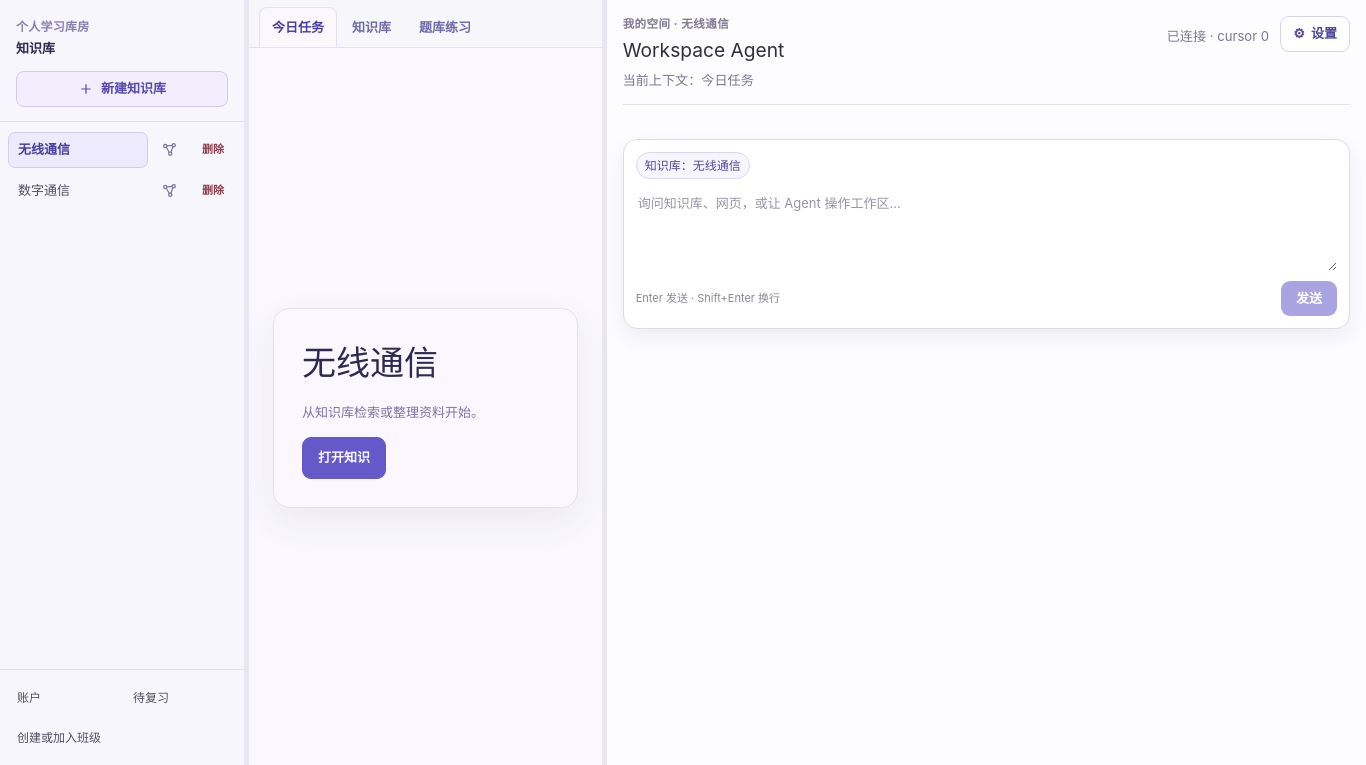
Test: Workspace Agent aggregate acceptance › retries the real failed Runtime turn while knowledge and question-bank controls stay usable
Type "请解释信道容量" into the text box named "向 Agent 发送消息".
click(986, 230); type("请解释信道容量")  # box [636,189,1337,271]
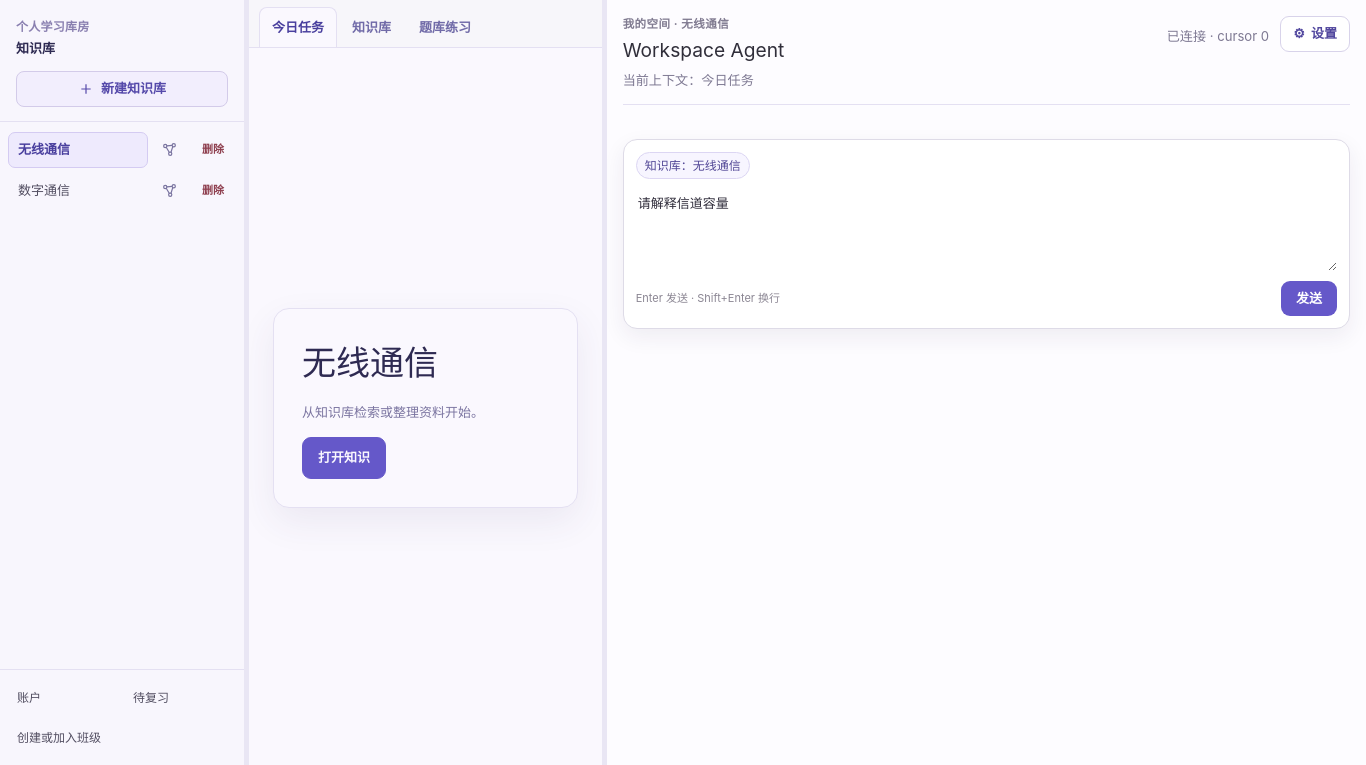
Expected: the button "发送" is enabled
Click the button "发送".
click(1309, 298)  # box [1281,281,1337,316]
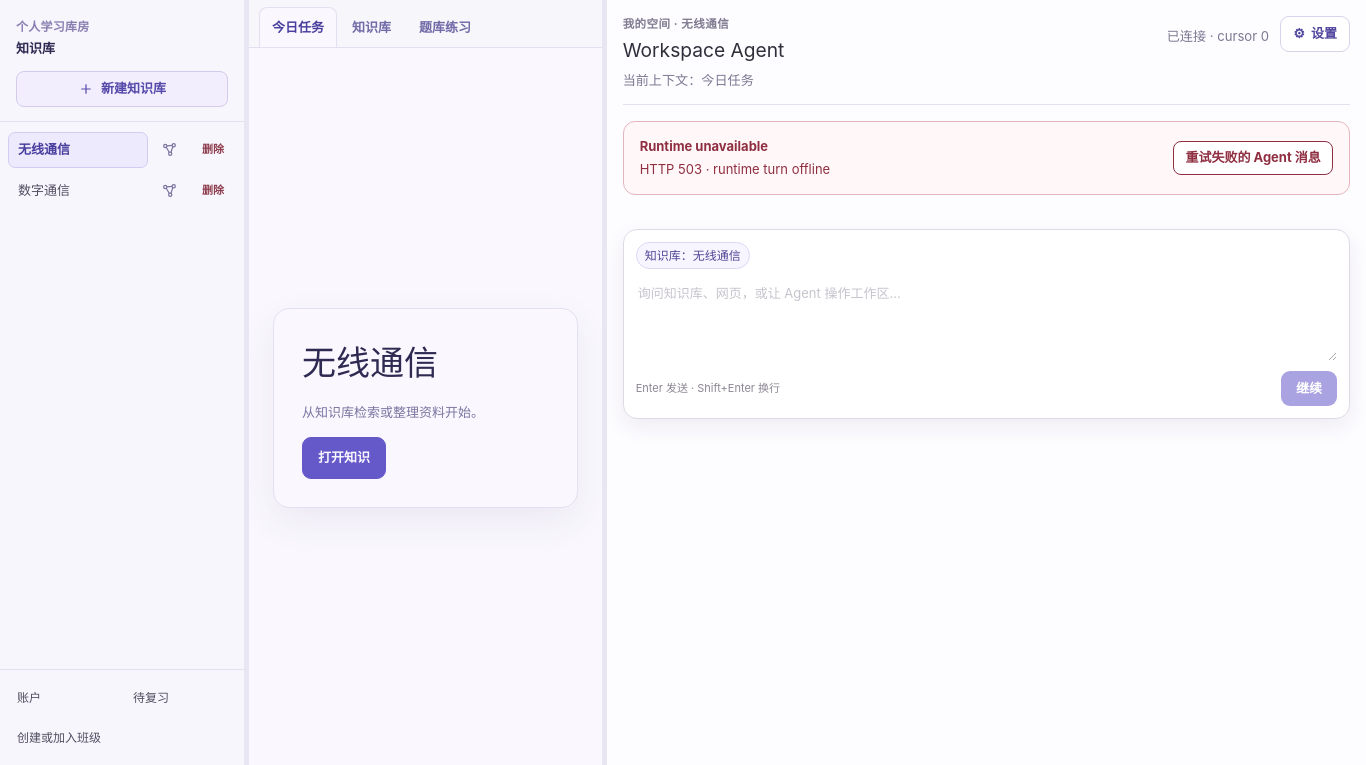
Expected: the text "HTTP 503 · runtime turn offline" is shown, [640,160,830,180]
Click the tab "知识库".
click(372, 28)  # box [340,8,403,47]
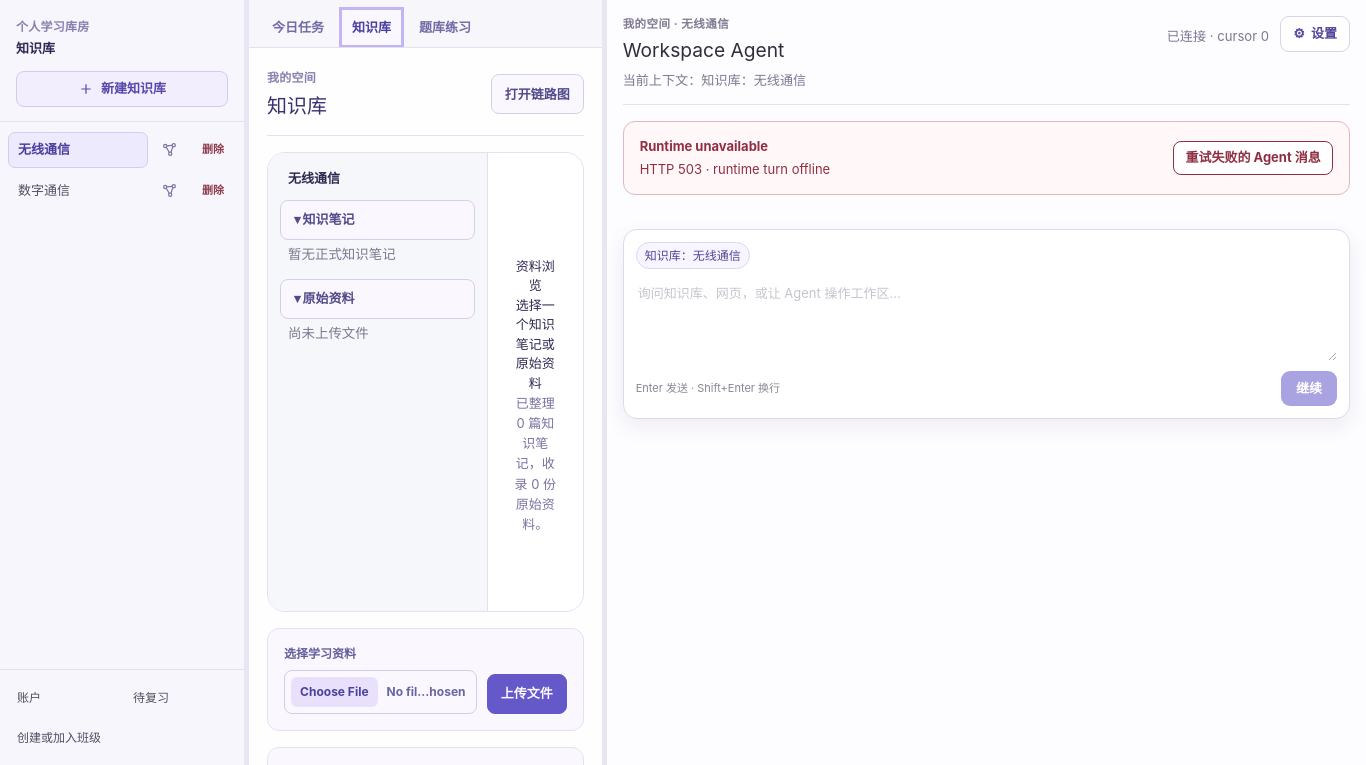
Expected: the element named "知识库面板" shows "无线通信", [288,170,340,186]
Click the tab "题库练习".
click(445, 28)  # box [407,8,483,47]
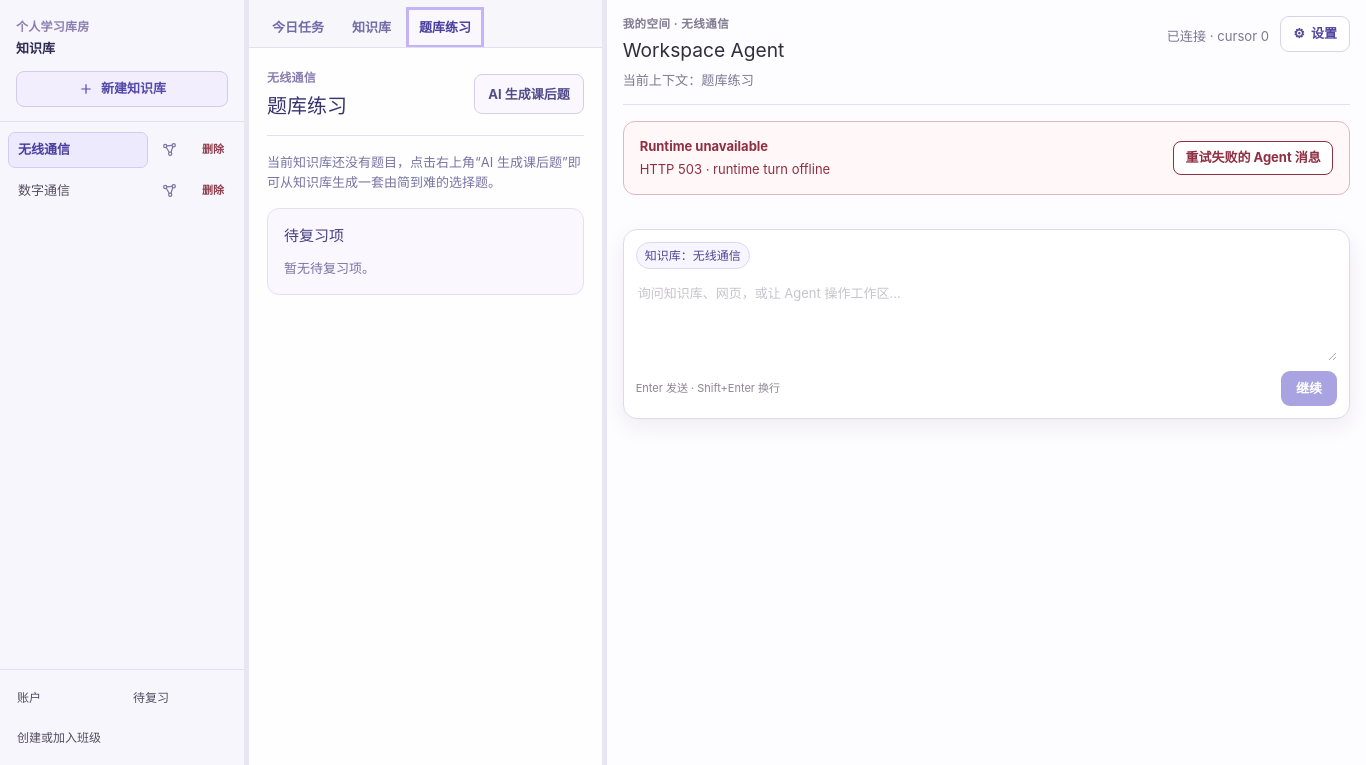
Expected: the element "Workspace Agent" is shown, [607,0,1365,435]
Expected: the element named "题库练习面板" is shown, [267,68,584,295]
Click the button "重试失败的 Agent 消息".
click(1253, 158)  # box [1173,141,1333,175]
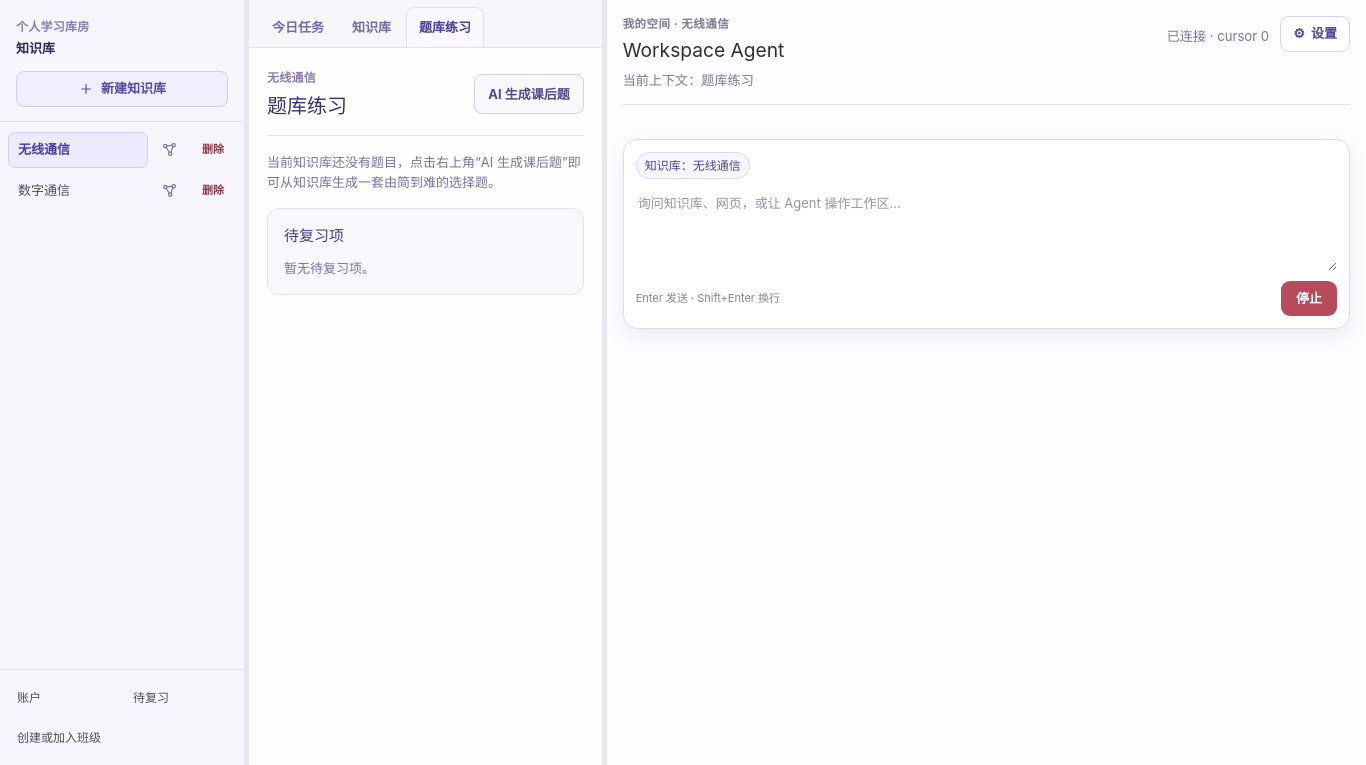
Expected: the message "Runtime unavailable" is gone
